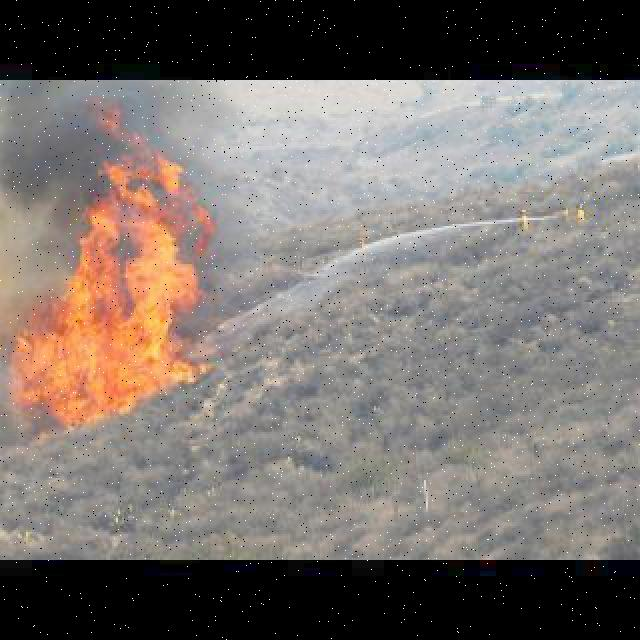fire: (37, 176, 210, 416)
smoke: (9, 83, 221, 165)
